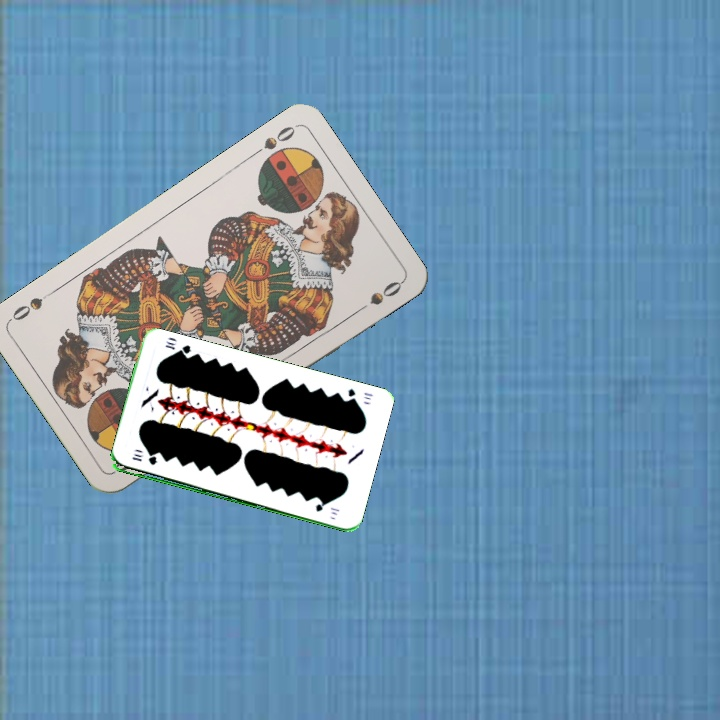G10: (344, 384, 375, 405), (128, 453, 160, 468)
SO: (247, 121, 298, 160)
